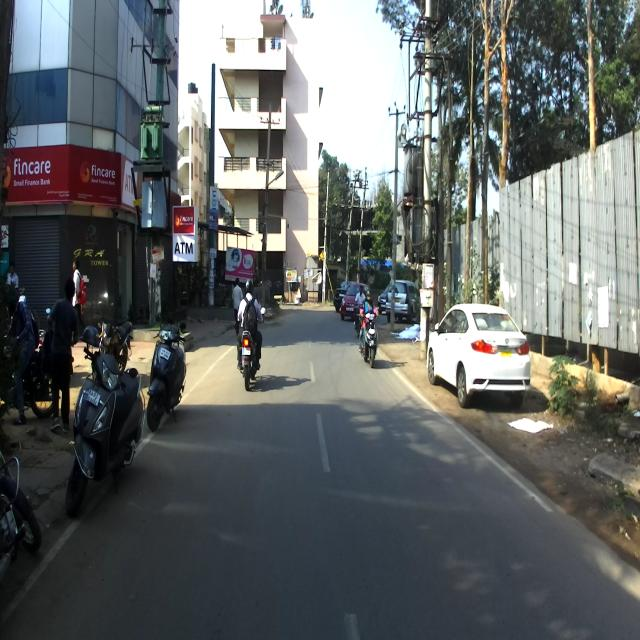car ahead at: (427, 299, 533, 408)
electric pole ahead at: (126, 0, 177, 326), (199, 56, 226, 319)
motorcycle ahead at: (60, 341, 147, 515), (151, 327, 187, 438)
